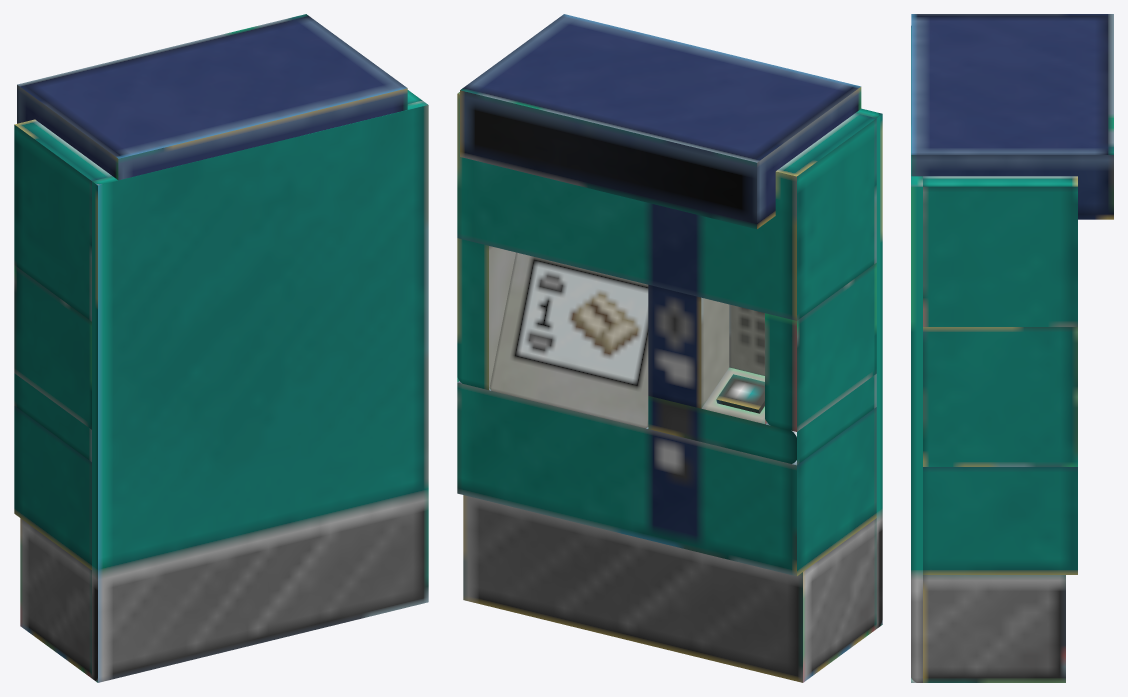
The model's file is RMV_Fahrkartenautomat.obj.
3 renders of one model, left to right at view 1: azimuth 30°, elevation 25°; view 2: azimuth 150°, elevation 25°; view 3: azimuth 270°, elevation 25°, orthographic. The views are drawn at different scales.
Visible parts, largest first — view 1: cube; view 2: cube; view 3: cube.
Boxes of the visible parts, bbox=[...] form: cube: bbox=[14, 14, 428, 682]; cube: bbox=[457, 14, 882, 682]; cube: bbox=[911, 14, 1113, 682].
Size of the model in its own units: 2 by 3 by 1.06.
